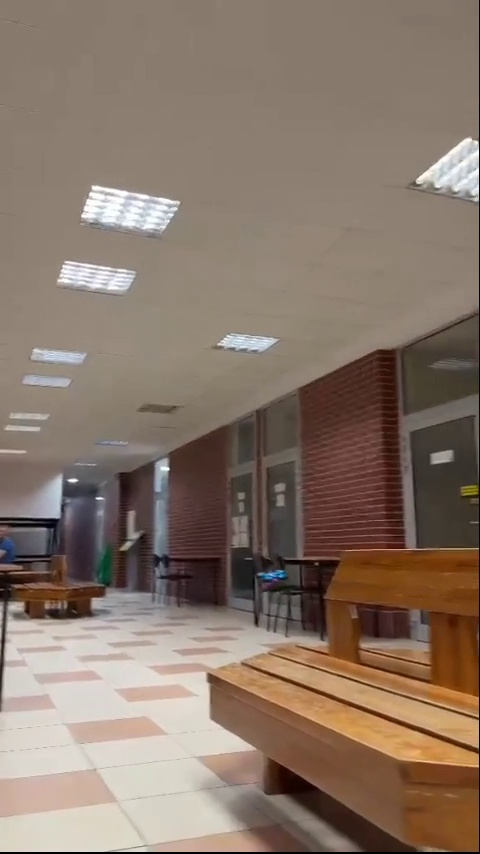drone: (256, 568, 289, 586)
no vest: (0, 521, 20, 577)
